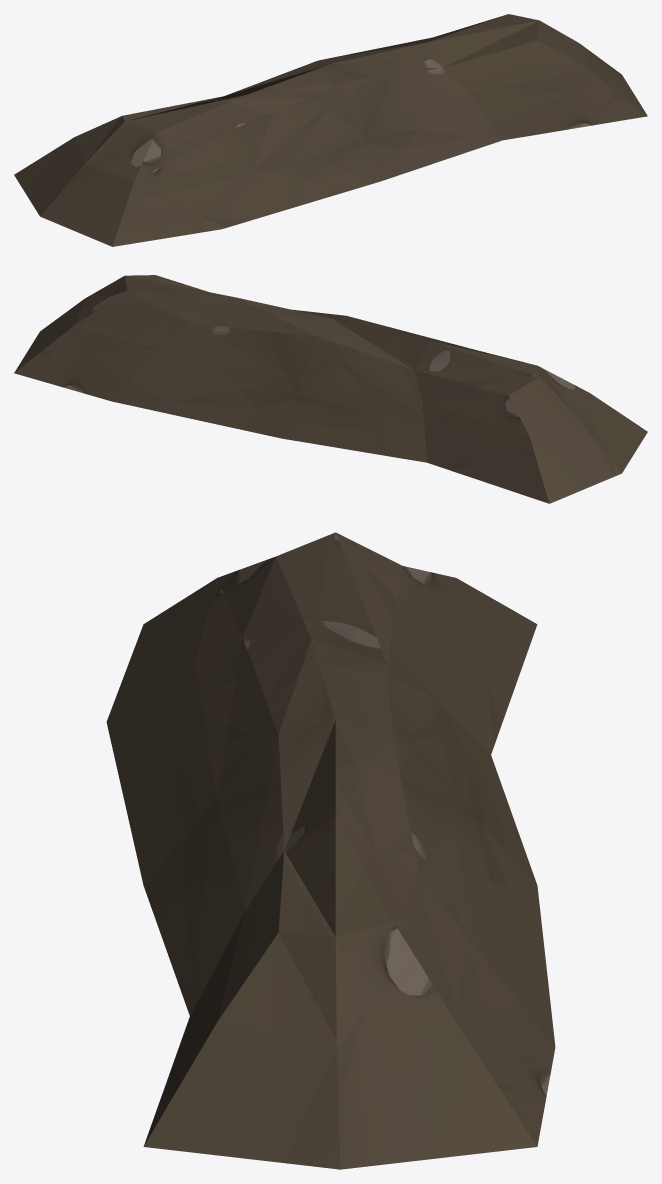
The model's file is synty-terrain-dustpile-long-01.gltf.
3 views of the same model, one above another, from view 1: azimuth 30°, elevation 25°; view 2: azimuth 150°, elevation 25°; view 3: azimuth 270°, elevation 25° (orthographic). The views are drawn at different scales.
Parts seen in each view (by area): view 1: SM_Terrain_DustPile_Long_01; view 2: SM_Terrain_DustPile_Long_01; view 3: SM_Terrain_DustPile_Long_01.
Part boxes in pixels (box(x1,y1,x2,y2)): SM_Terrain_DustPile_Long_01: box(14, 14, 647, 246); SM_Terrain_DustPile_Long_01: box(14, 275, 647, 503); SM_Terrain_DustPile_Long_01: box(106, 532, 555, 1169).
Bounding box in the file's own units: 1.98 × 0.2702 × 0.6624.
1 material, 1 textured.
